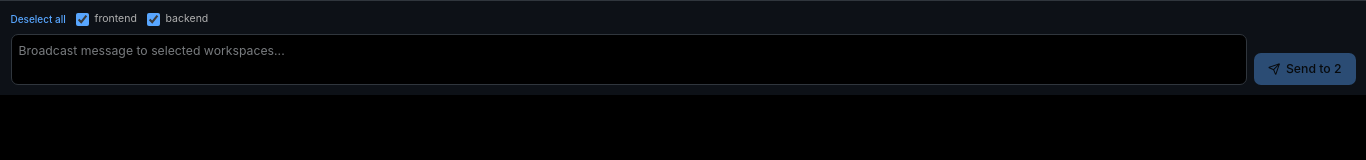
Scenario: BroadcastComposer › deselect all / select all toggle works
Click the button "Deselect all": (38, 19) [10,12,66,26]
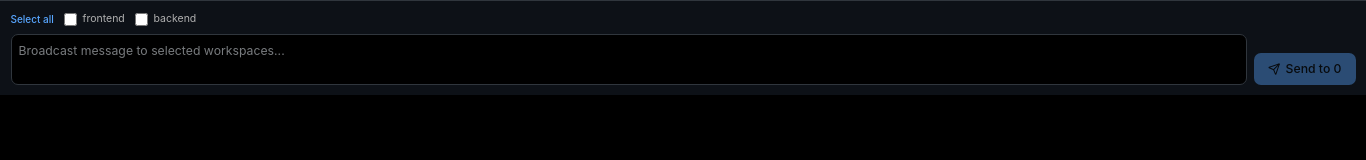
Check: the button "Send to 0" is shown, box [1254,53,1356,84]
Click the button "Select all": (32, 19) [10,12,54,26]
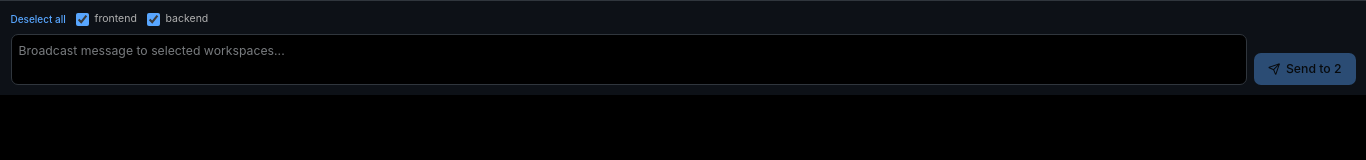
Check: the button "Send to 2" is shown, box [1254,53,1356,84]
